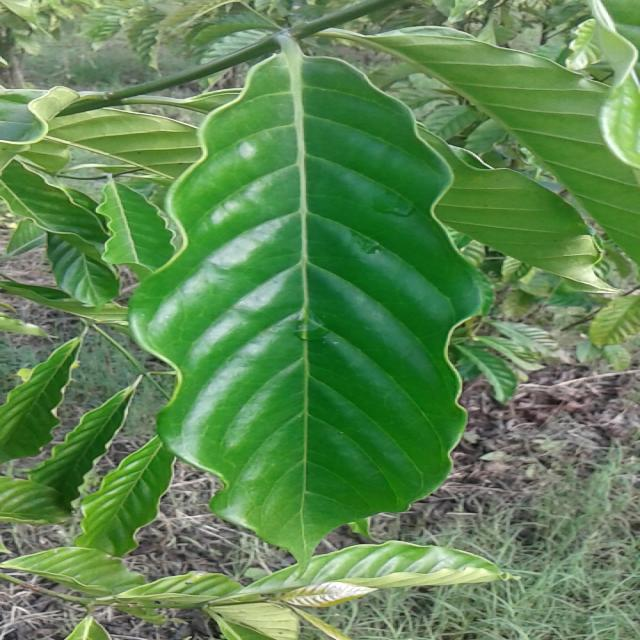Sanas: (111, 32, 515, 560)
